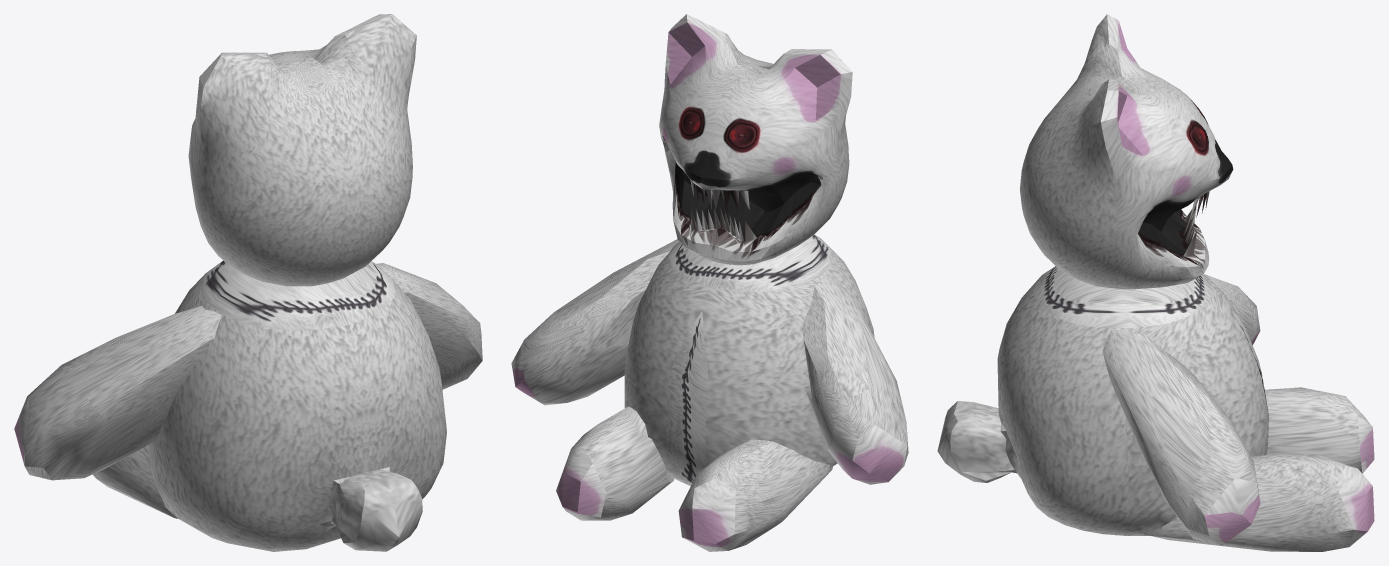
Rendered from CreepyTeddy.fbx.
3 views of the same model, side by side, from view 1: azimuth 30°, elevation 25°; view 2: azimuth 150°, elevation 25°; view 3: azimuth 270°, elevation 25° (orthographic). The views are drawn at different scales.
Parts seen in each view (by area): view 1: UglyBear; view 2: UglyBear; view 3: UglyBear.
Boxes of the visible parts, box(x1,y1,x2,y2) form: UglyBear: box(14, 14, 482, 551); UglyBear: box(511, 14, 908, 551); UglyBear: box(937, 14, 1374, 551).
Bounding box in the file's own units: 630 × 663 × 570.
